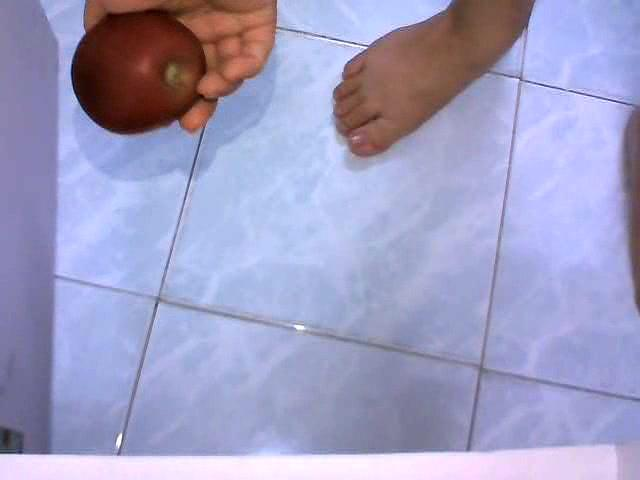apple: (70, 8, 208, 136)
